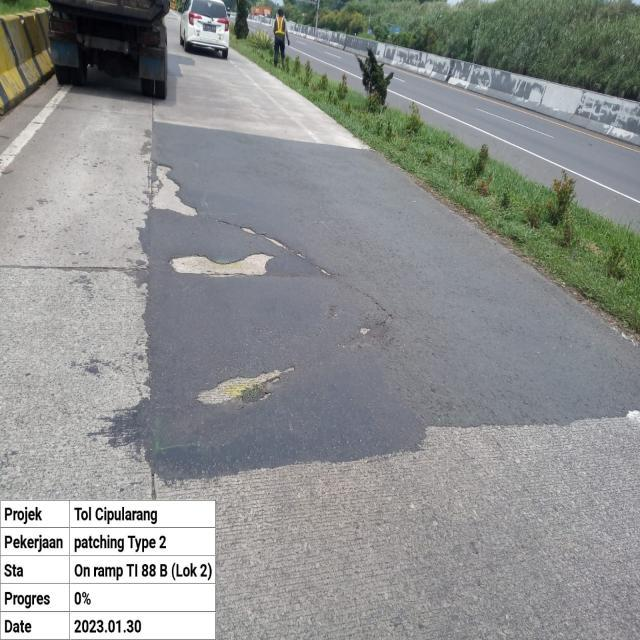Buraco: (192, 364, 298, 408), (165, 250, 279, 280), (148, 158, 201, 219)
